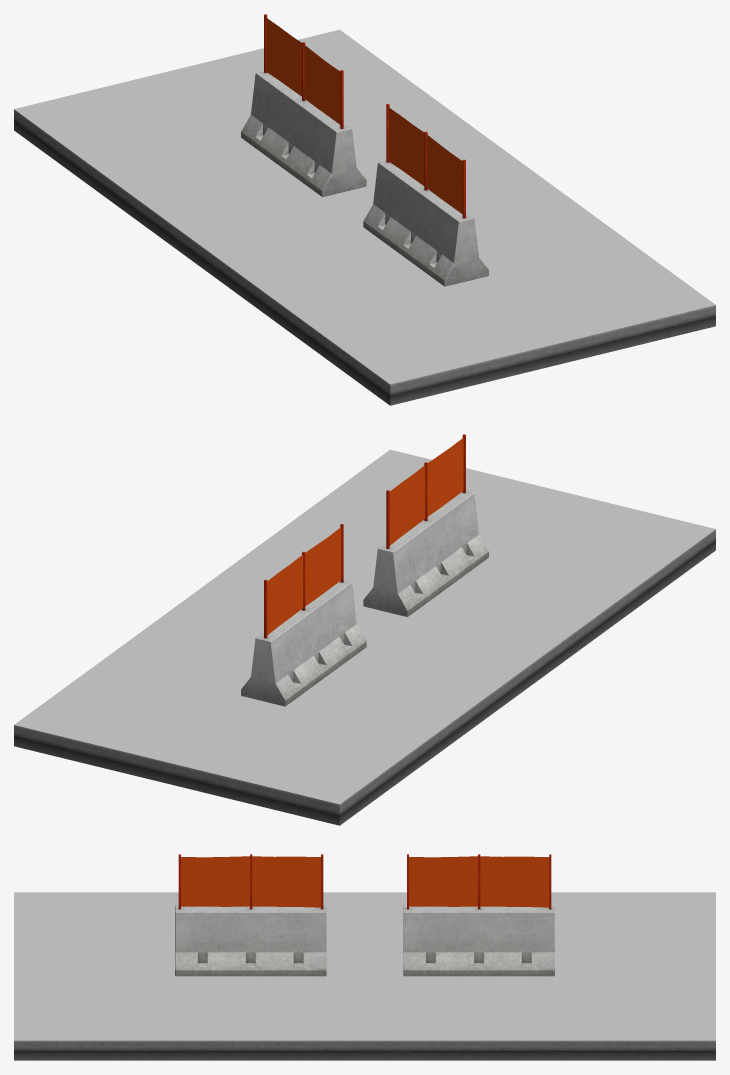
Rendered from Chicane2.fbx.
The picture shows the model from 3 angles, top to bottom: view 1: azimuth 30°, elevation 25°; view 2: azimuth 150°, elevation 25°; view 3: azimuth 270°, elevation 25°; orthographic projection. The views are drawn at different scales.
Parts seen in each view (by area): view 1: Empty_Mesh; view 2: Empty_Mesh; view 3: Empty_Mesh.
Part boxes in pixels (left/top/right/bottom): Empty_Mesh: left=14, top=14, right=715, bottom=405; Empty_Mesh: left=14, top=434, right=715, bottom=825; Empty_Mesh: left=14, top=854, right=715, bottom=1060.
Size of the model in its own units: 1600 by 661 by 3200.
